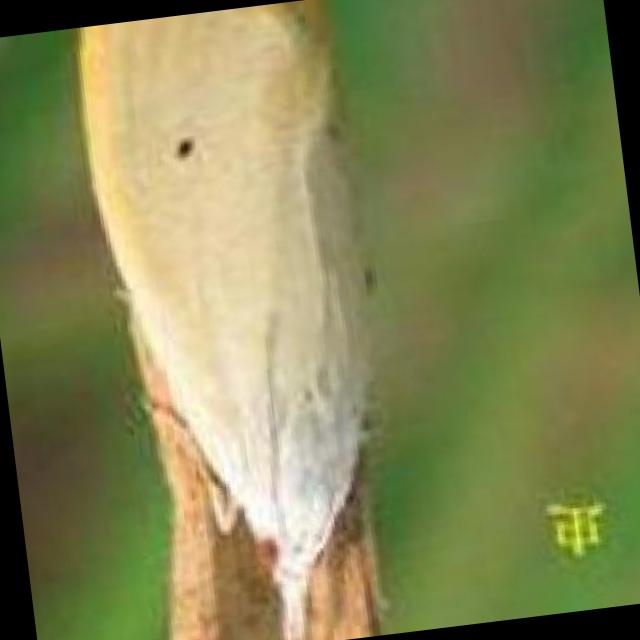stem-borer: (67, 0, 412, 640)
